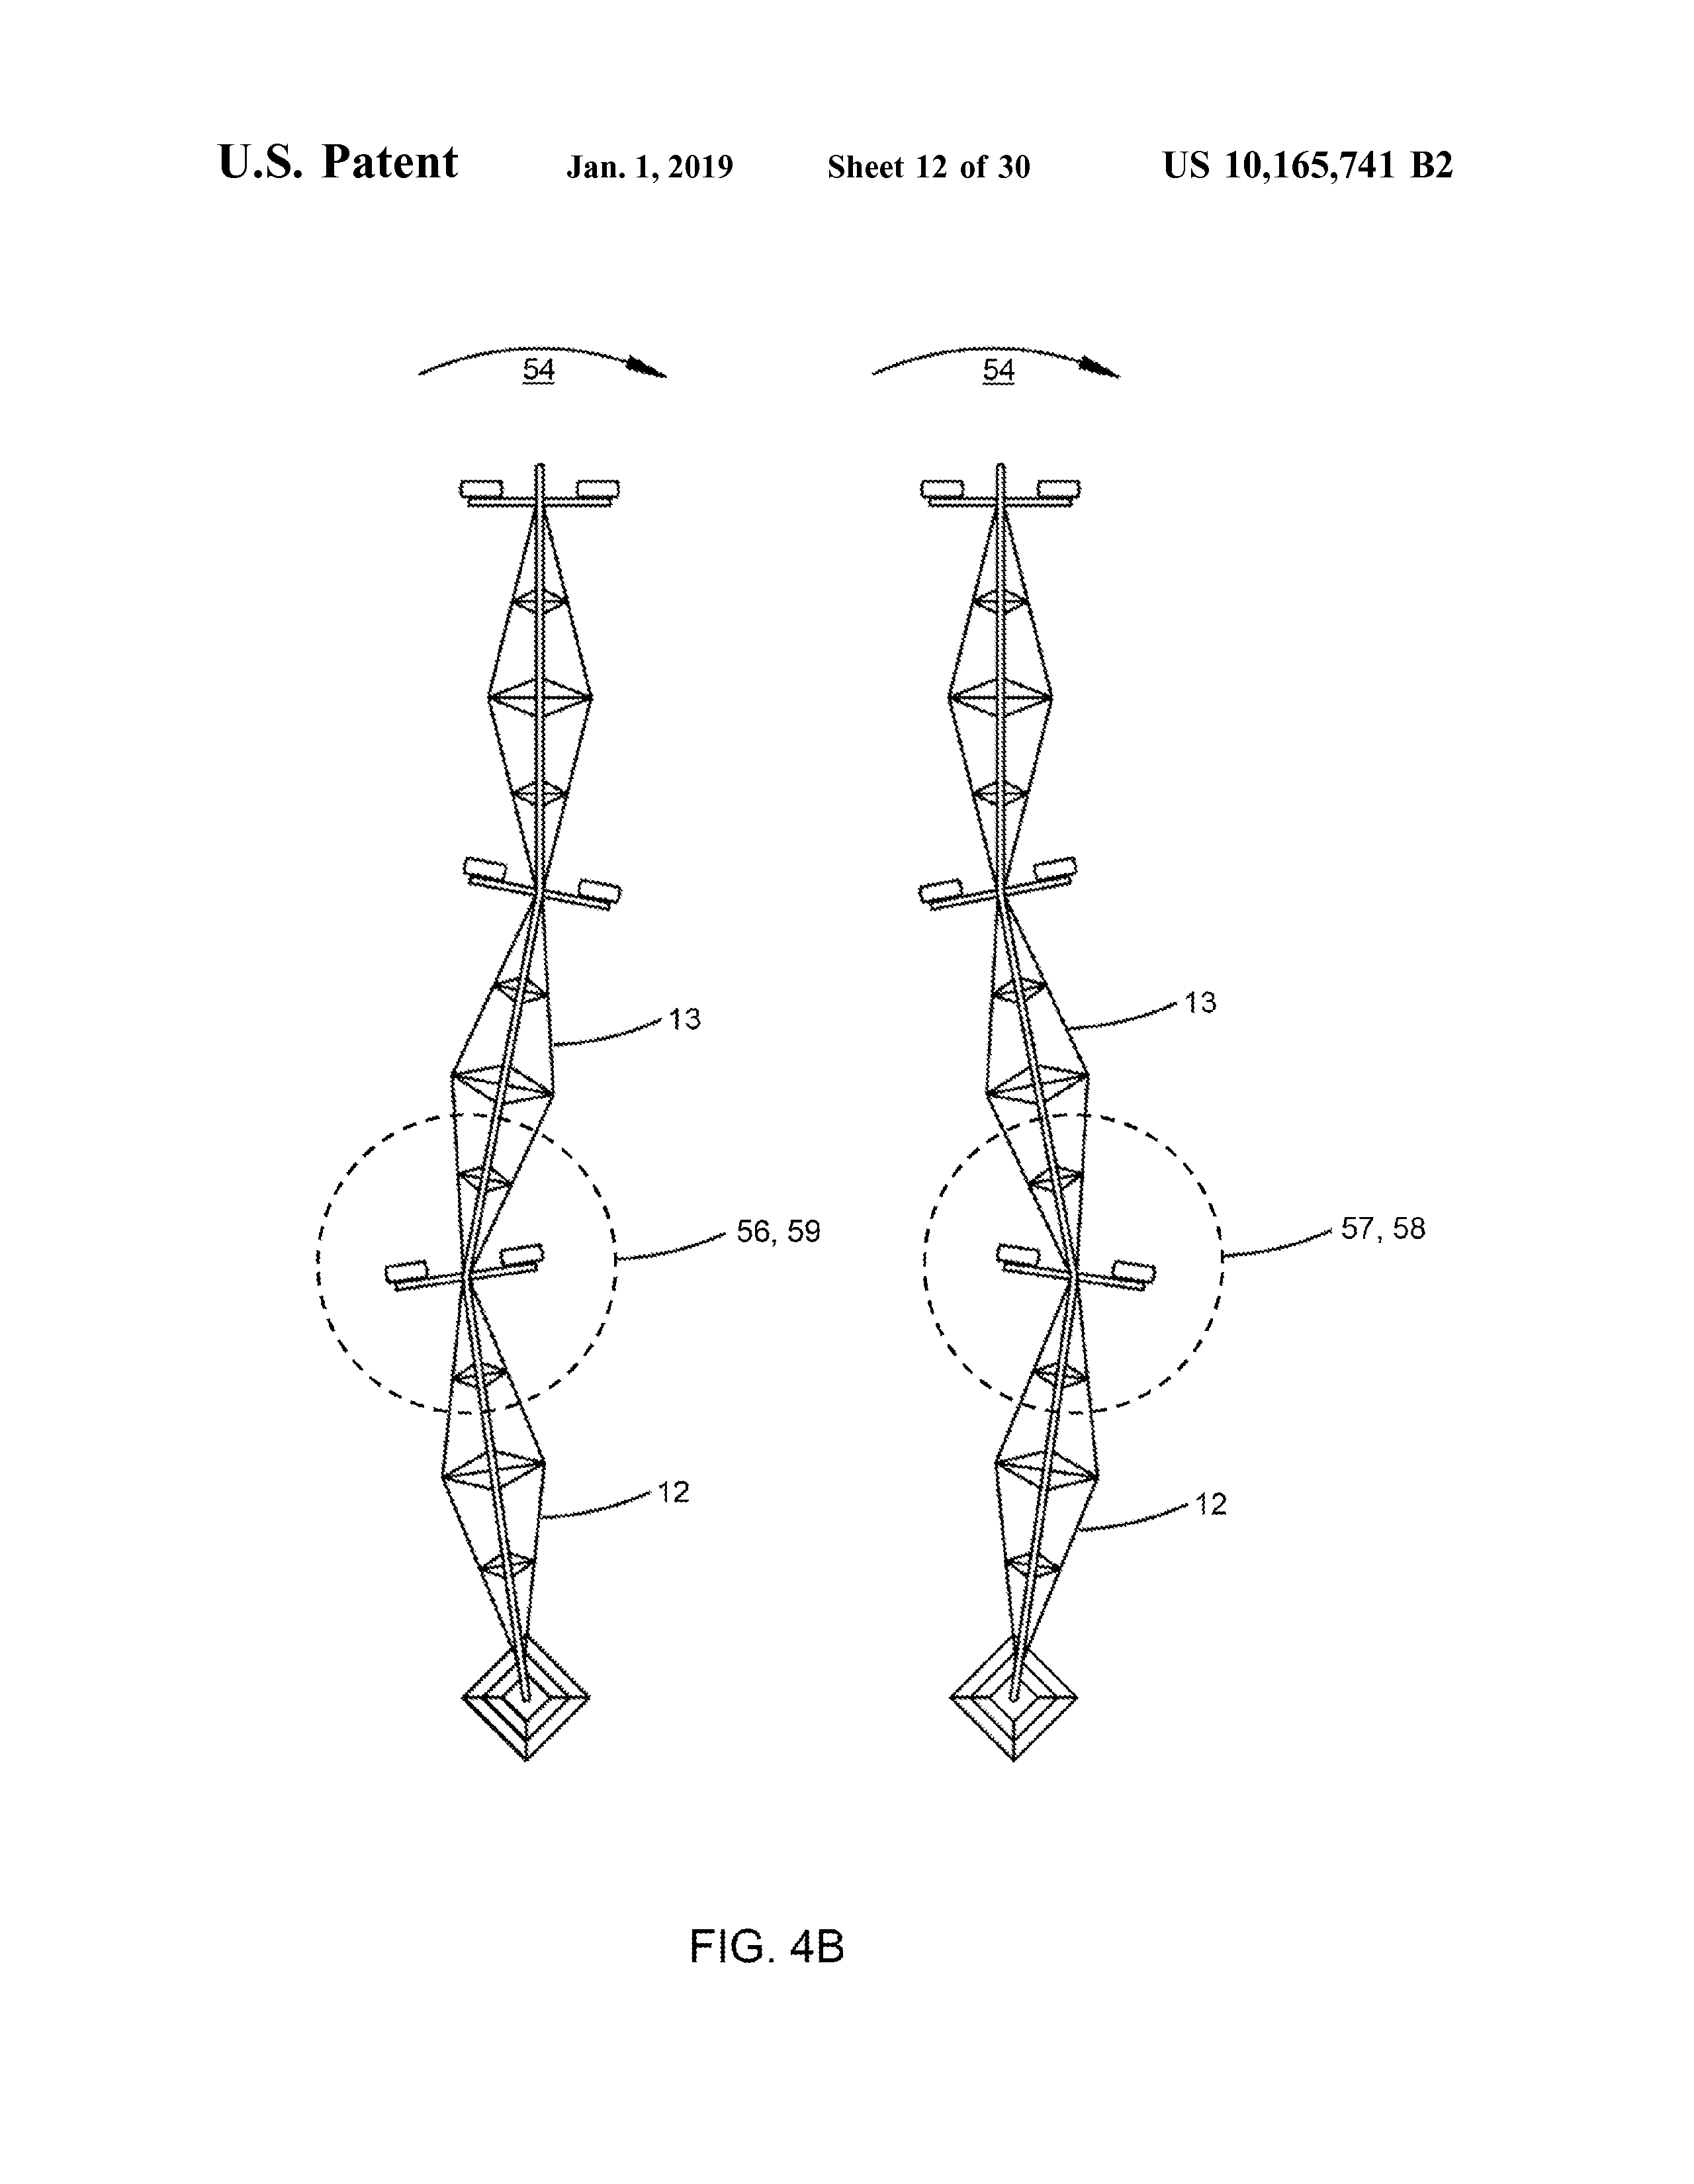patent image: (369, 289, 1449, 2007)
